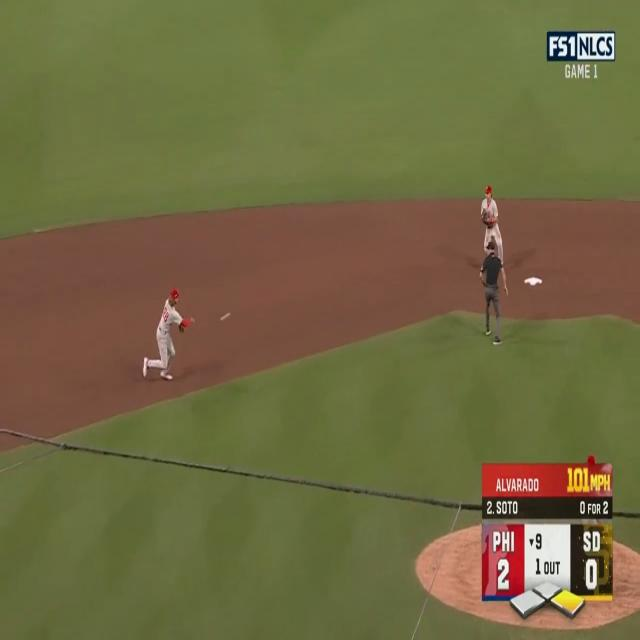baseball: (221, 313, 230, 321)
